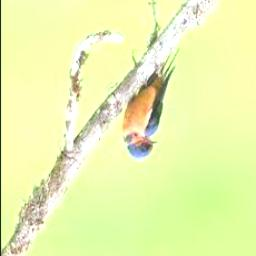Swallow: (121, 45, 179, 159)
